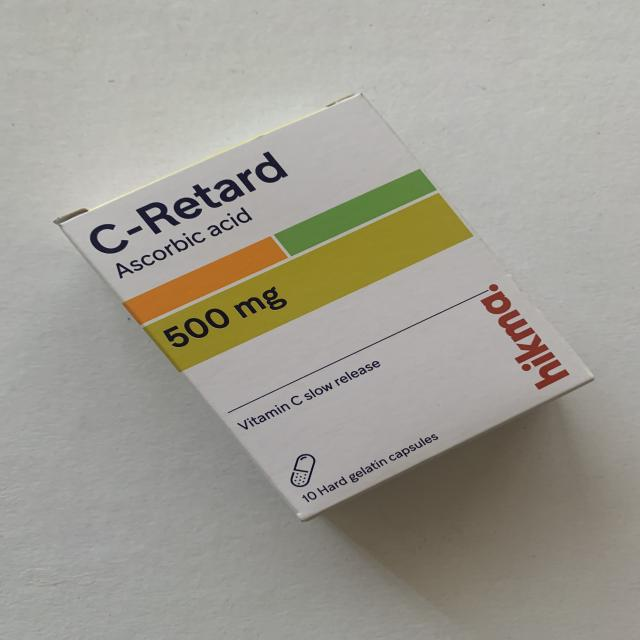C-Retard: (54, 81, 601, 526)
